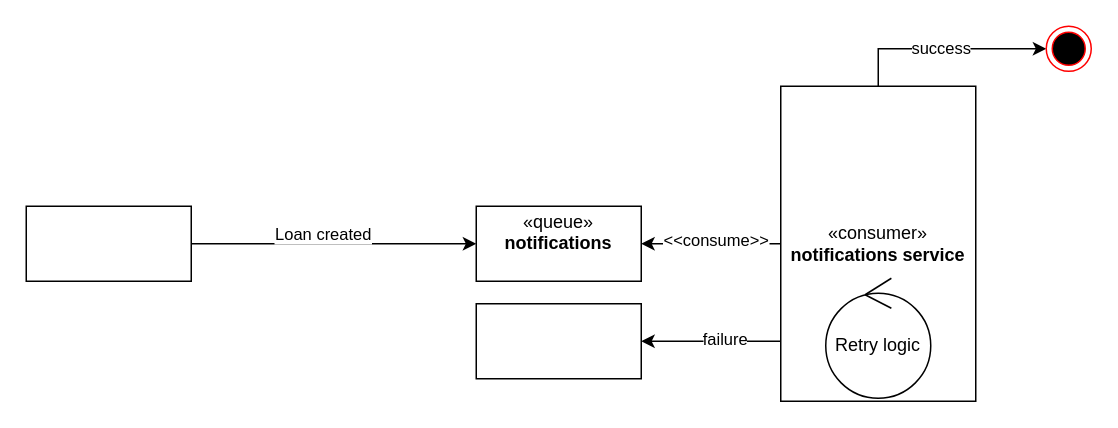
Image size: 1118x428. Some labels were removed from this diagram. Here are the shapes that lost their labels. From the top down, the box of each, then its label:
(25, 205, 191, 281): «producer» loans service
(475, 302, 641, 379): «queue» recovery
